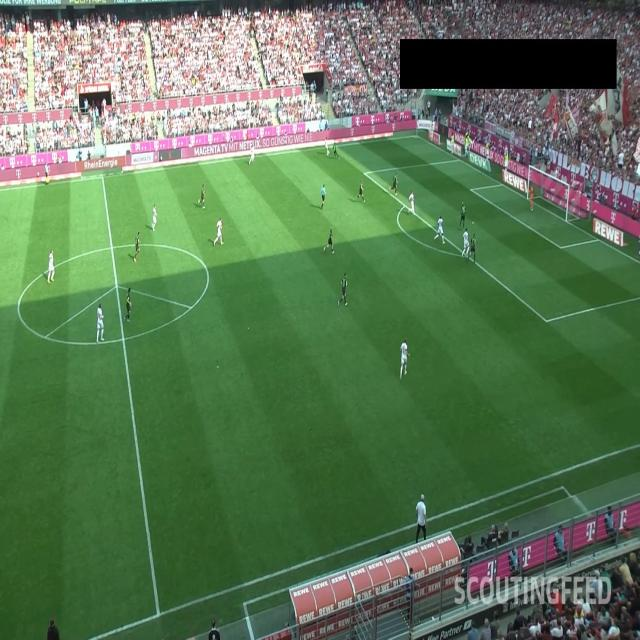ball: (328, 150, 330, 155)
